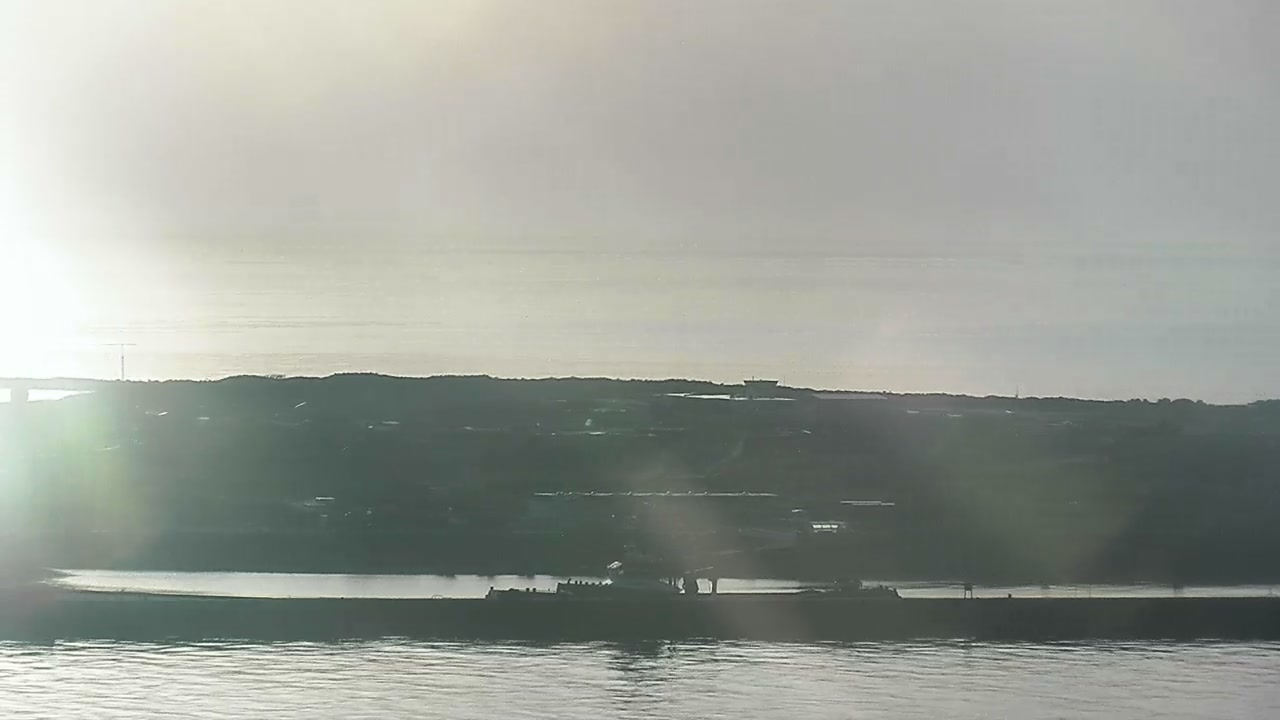sea: (482, 526, 902, 599)
